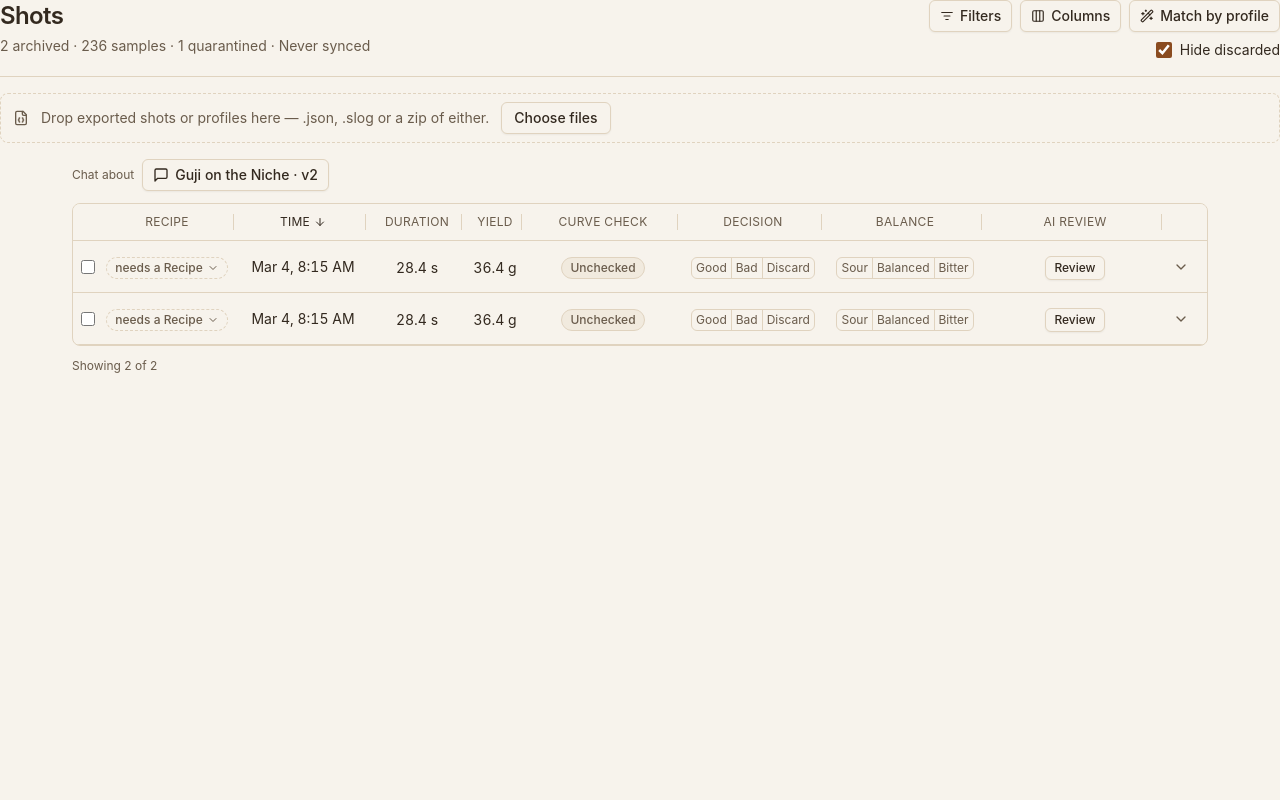
Test: ShotsPage curve chooser › lists the ten series, the puck flow one by its label
The width and height of the screenshot is (1280, 800).
Click the button with test id "columns-button" at x=1071, y=16, box x1=1020 y1=0 x2=1121 y2=32
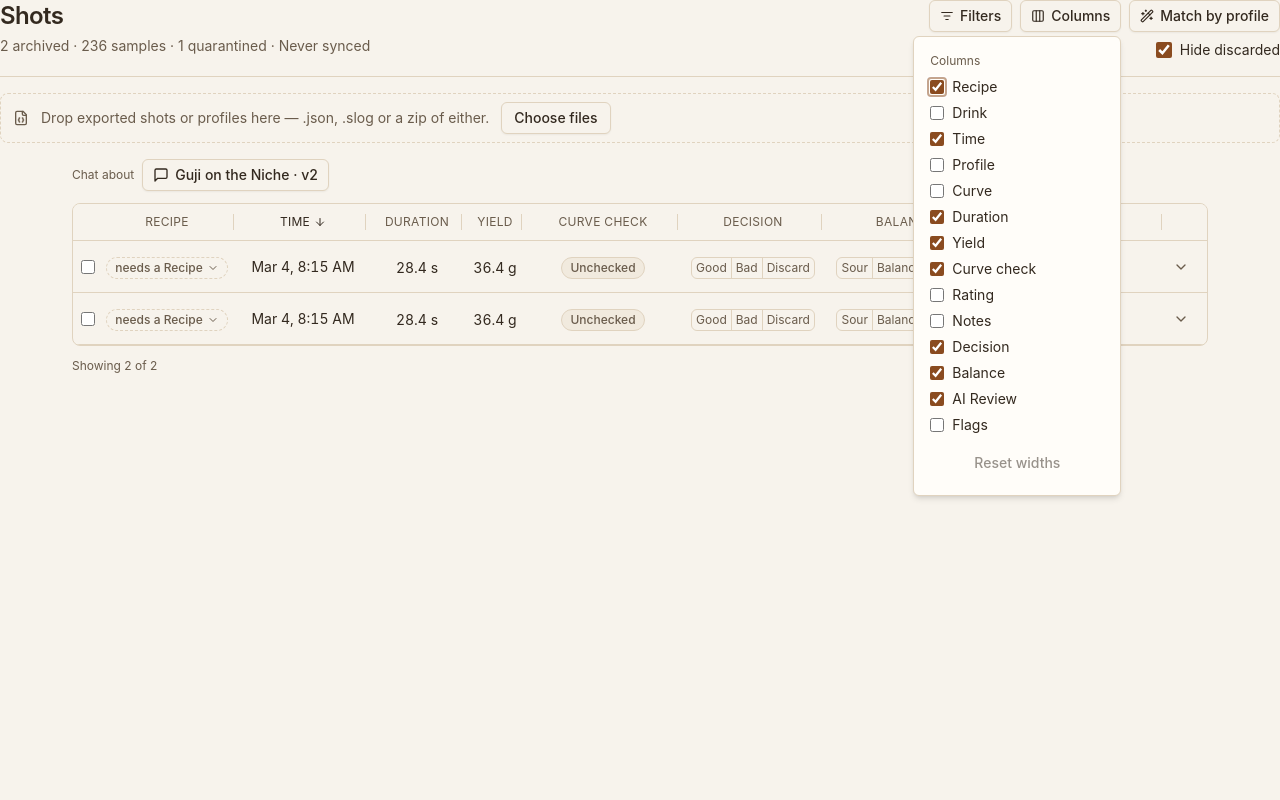
Click the checkbox labelled "Curve" at x=937, y=191, box x1=930 y1=184 x2=944 y2=198
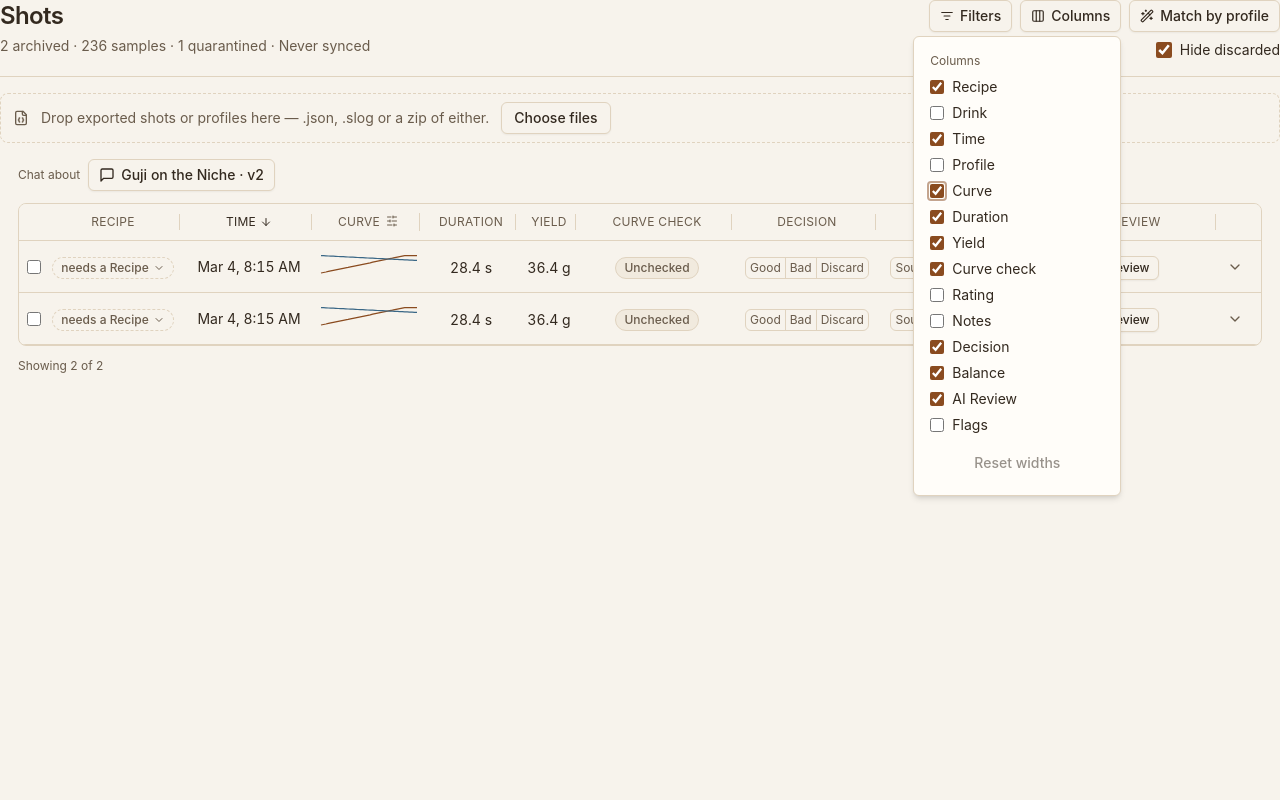
Press Escape
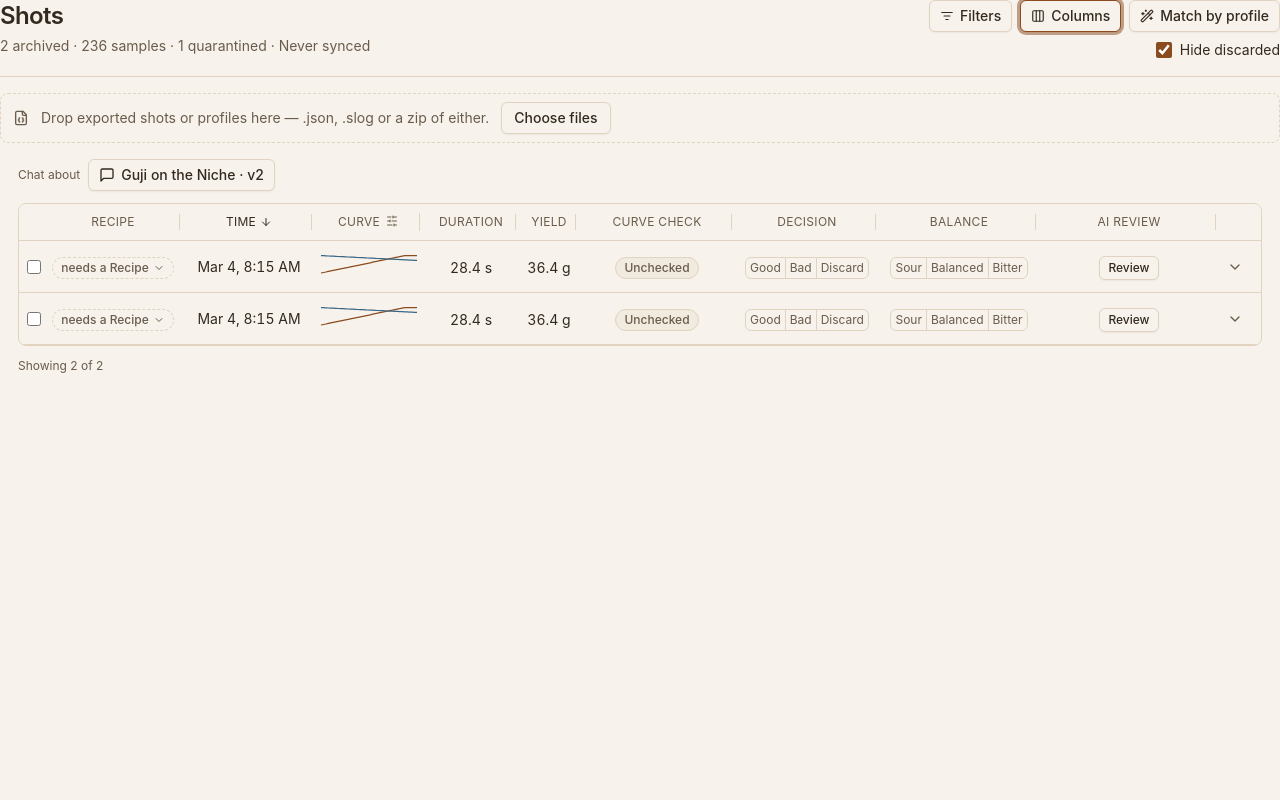
Click the button named "Choose curves" at x=392, y=221, box x1=384 y1=213 x2=400 y2=229
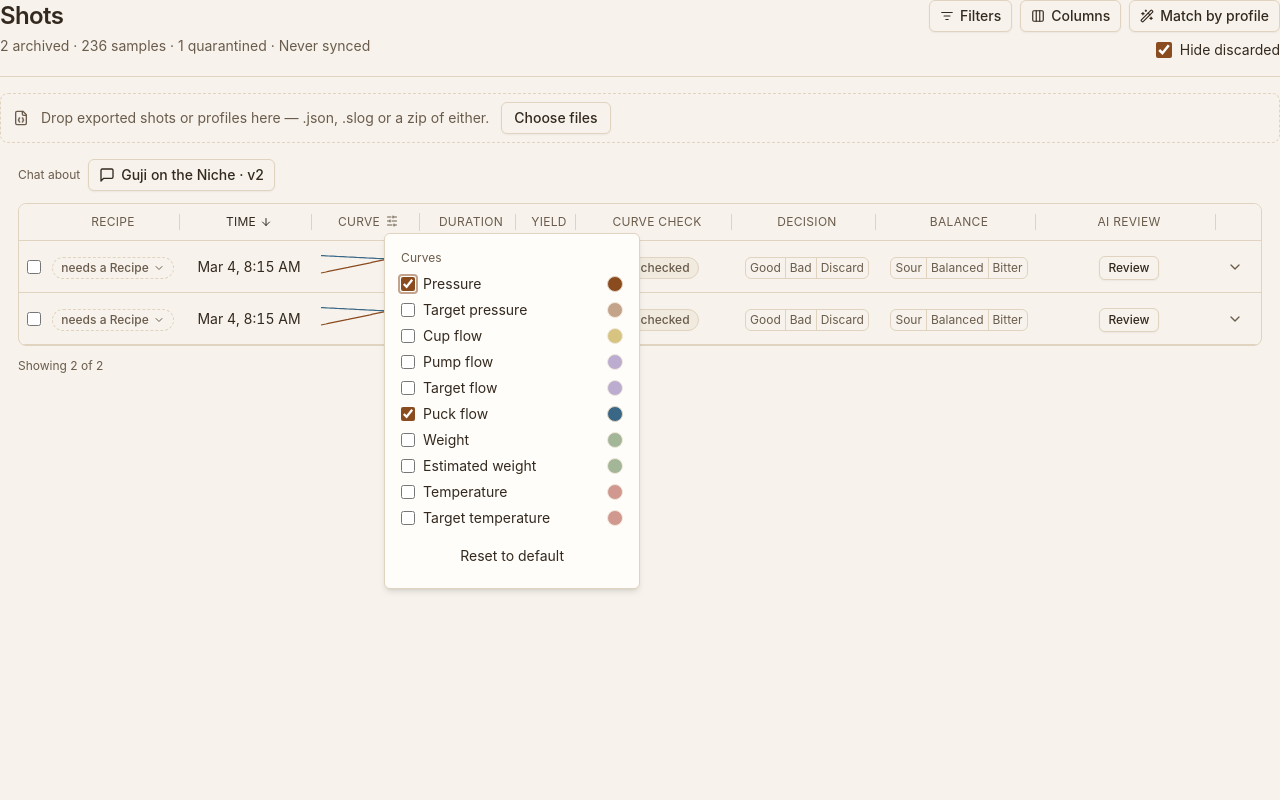
Expected: the checkbox labelled "Puck flow" is checked, x1=401 y1=407 x2=415 y2=421
Expected: the checkbox labelled "Weight" is not checked, x1=401 y1=433 x2=415 y2=447
